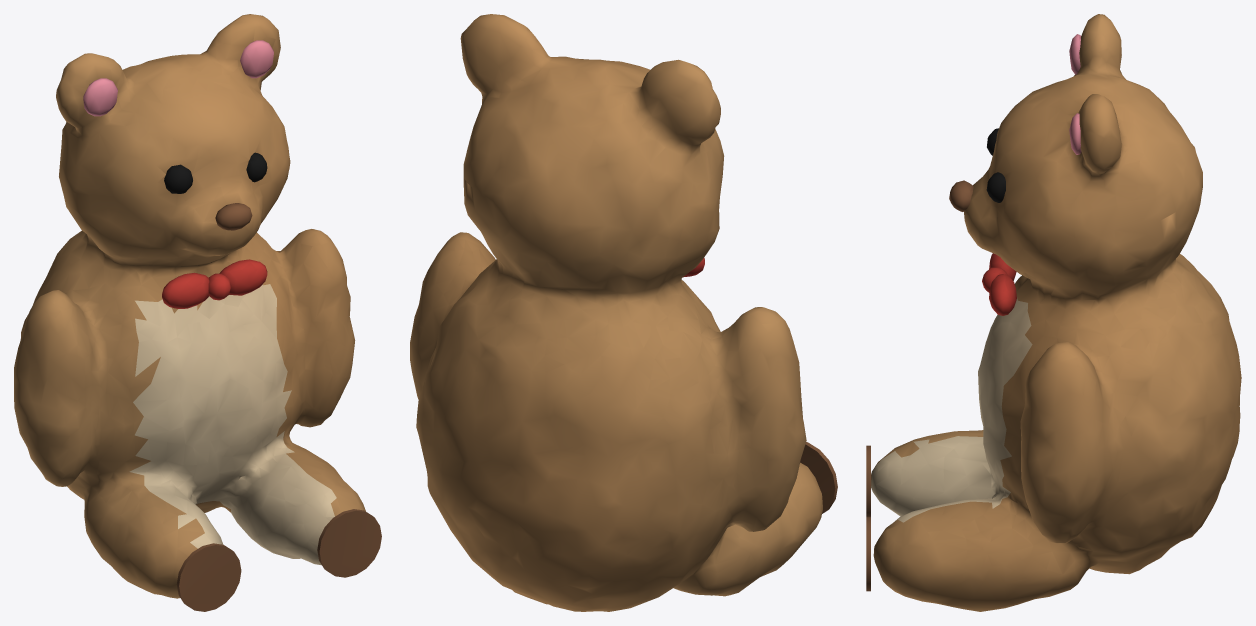
Rendered from den_teddy_lod1.glb.
3 views of the same model, side by side, from view 1: azimuth 30°, elevation 25°; view 2: azimuth 150°, elevation 25°; view 3: azimuth 270°, elevation 25° (orthographic). The views are drawn at different scales.
Parts seen in each view (by area): view 1: den_teddy.001; view 2: den_teddy.001; view 3: den_teddy.001.
Boxes of the visible parts, box(x1,y1,x2,y2) form: den_teddy.001: box(14, 14, 381, 611); den_teddy.001: box(410, 14, 837, 611); den_teddy.001: box(866, 14, 1241, 611).
Size of the model in its own units: 16.9 by 24.15 by 16.04.
